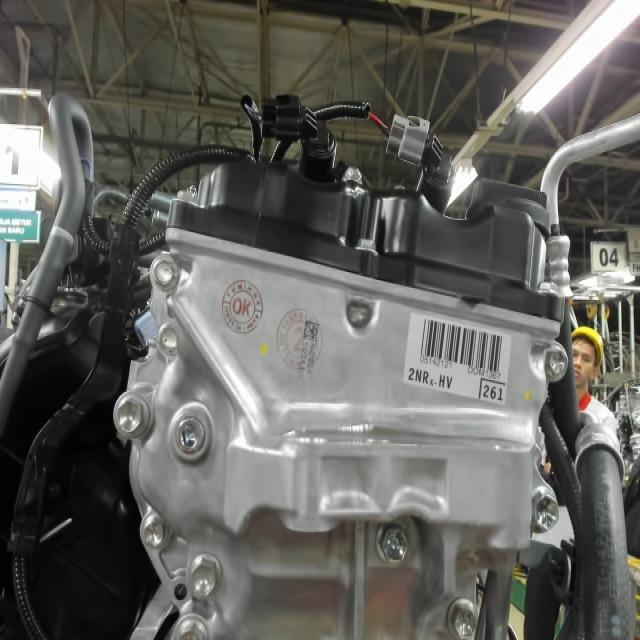Engine Assy-261: (475, 375, 508, 405)
Hose Canister-MR: (46, 220, 76, 253)
